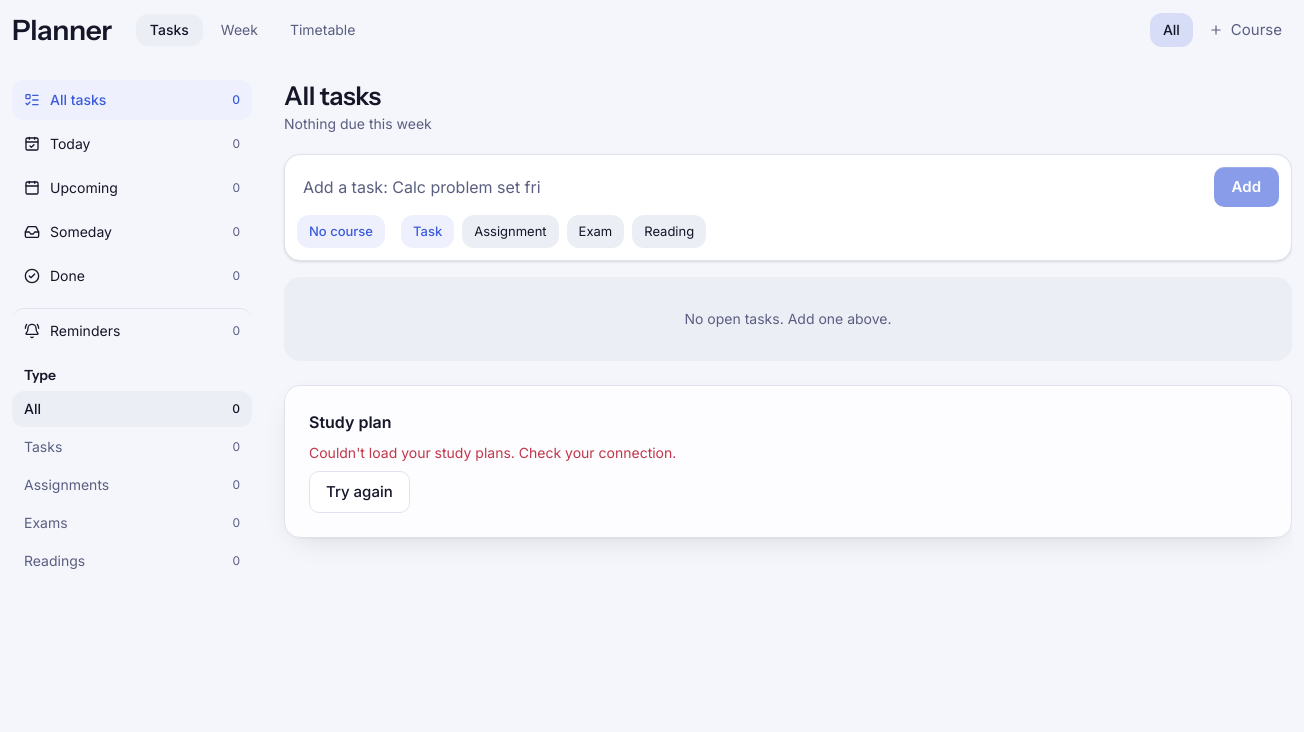
Test: Planner page › a task added while the planner is still loading is kept when the load finishes
Type "Calc problem set" into the field labelled "Add a task" at {"x": 751, "y": 187}, box [297,169,1206,205]
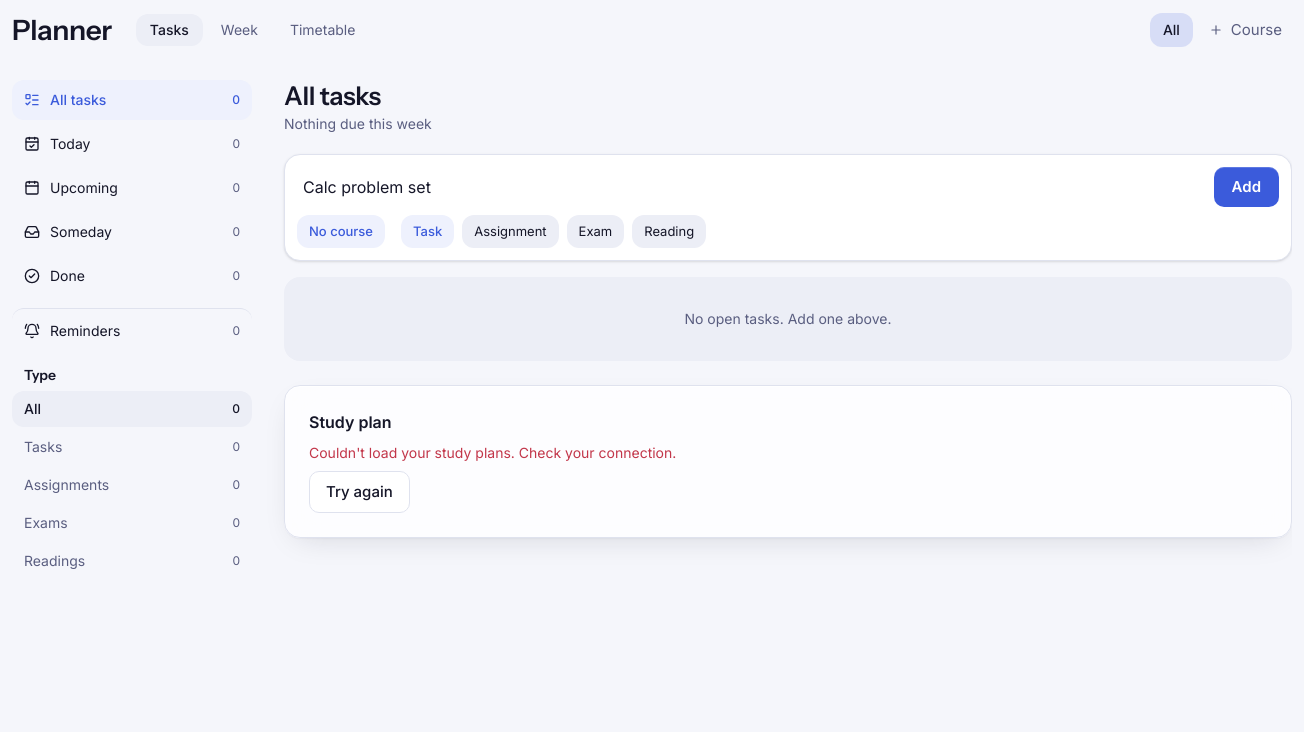
Click the button "Add" at {"x": 1246, "y": 187}, box [1214,167,1279,207]
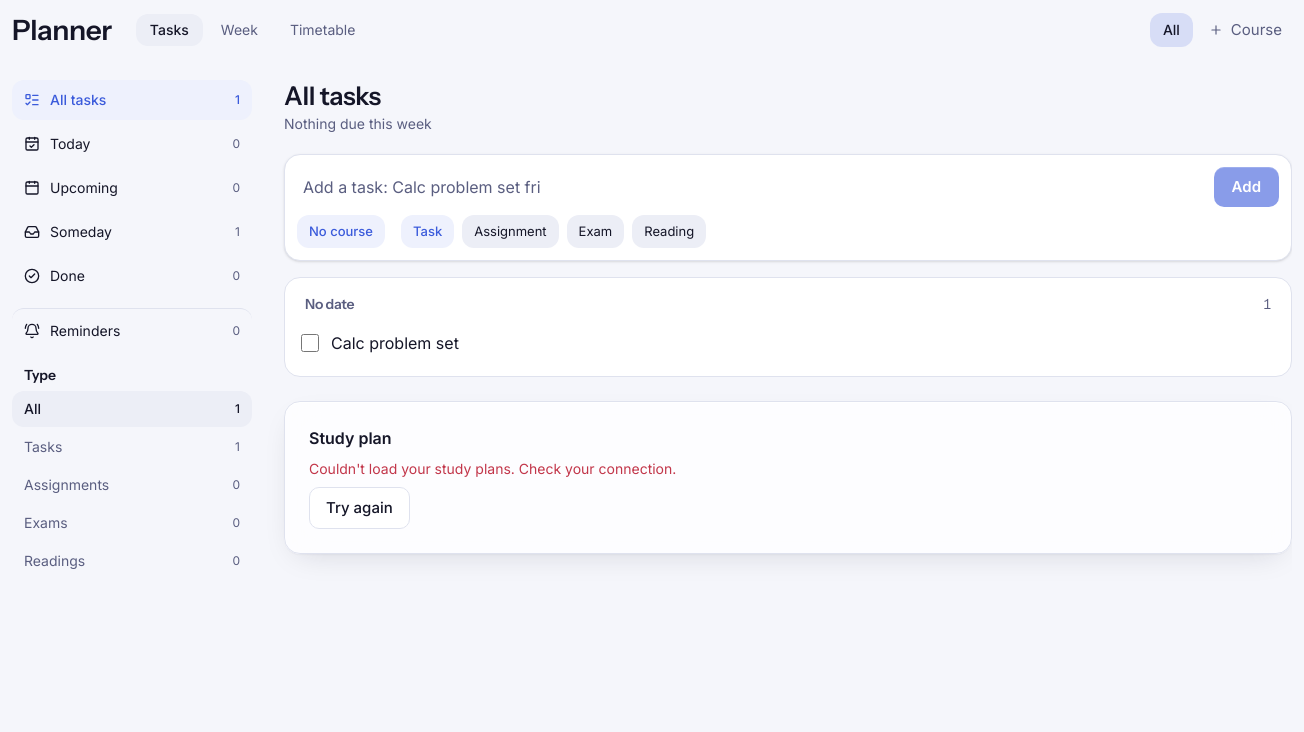
Now the button "Calc problem set" is shown, box [331,332,459,354]
